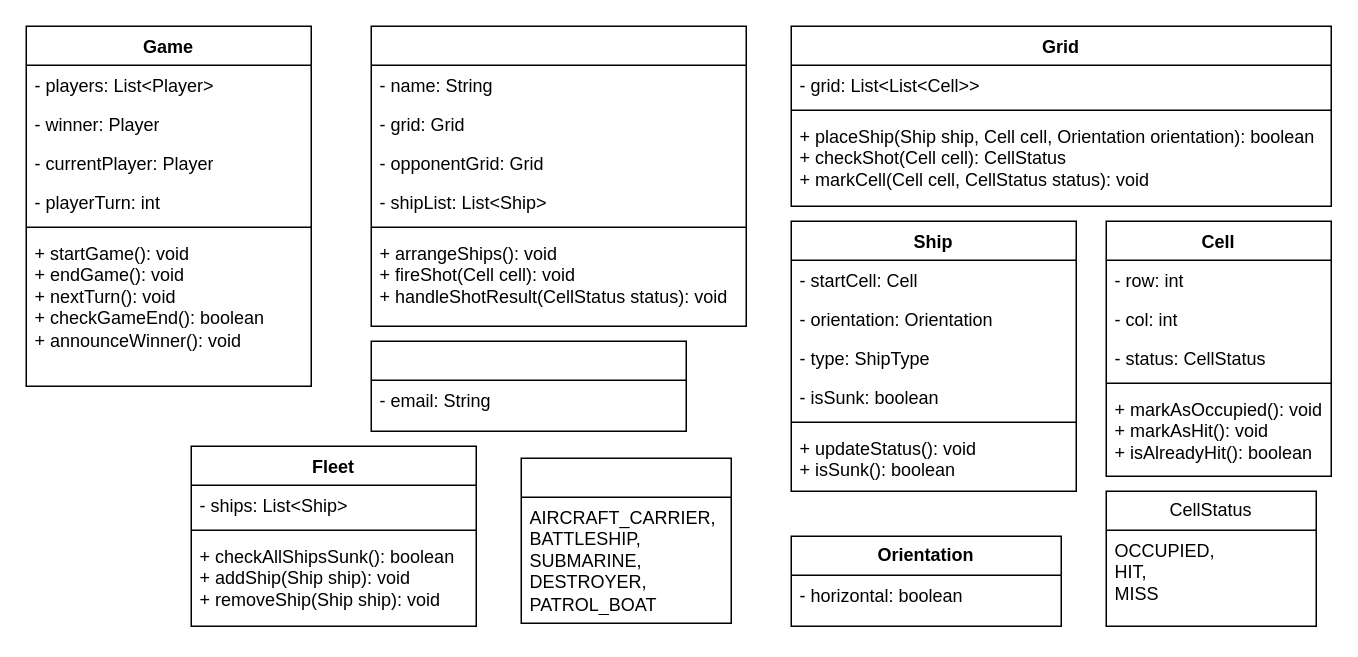
Image size: 1358x657. Some labels were removed from this diagram. The box of each missing label's shape, as (x1, y1, x2, y2) in pixels:
HumanPlayer extends Player: (370, 340, 686, 431)
Player (abstract): (370, 25, 746, 326)
ShipType: (520, 457, 731, 623)
